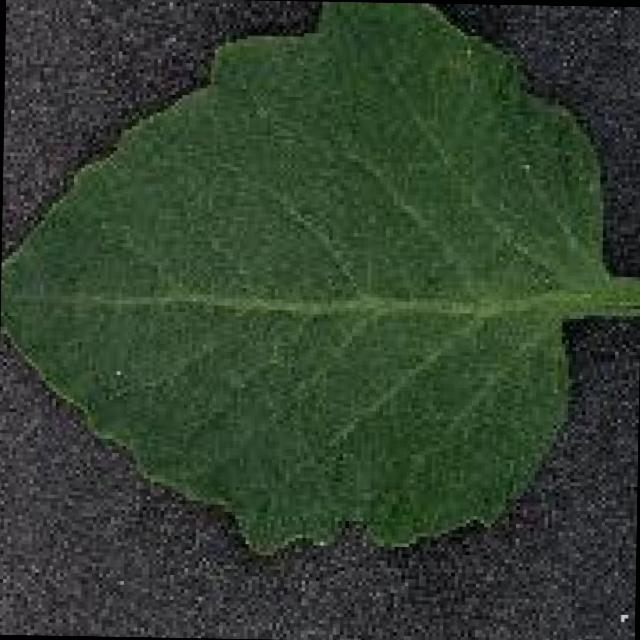healthy: (0, 0, 640, 557)
